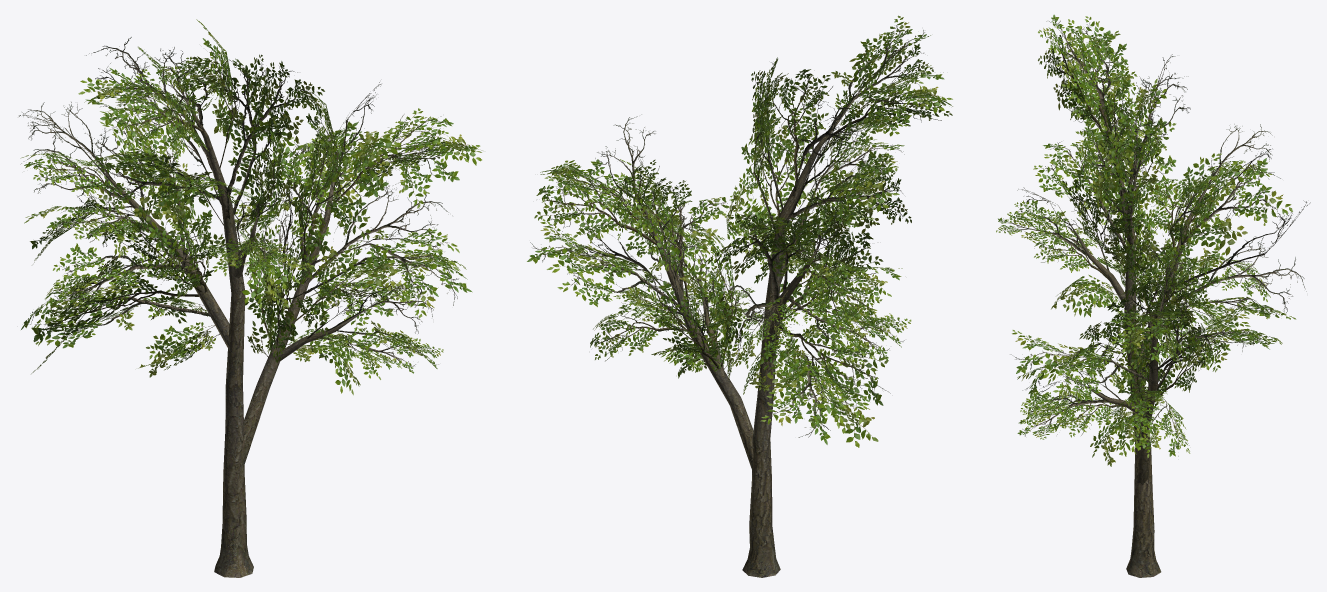
Rendered from tree1.dae.
The picture shows the model from 3 angles, left to right: view 1: azimuth 30°, elevation 25°; view 2: azimuth 150°, elevation 25°; view 3: azimuth 270°, elevation 25°; orthographic projection. The views are drawn at different scales.
Parts seen in each view (by area): view 1: Foliage_Trees_01; view 2: Foliage_Trees_01; view 3: Foliage_Trees_01.
Part boxes in pixels (x1,y1,x2,y2): Foliage_Trees_01: [19, 19, 482, 577]; Foliage_Trees_01: [527, 15, 952, 577]; Foliage_Trees_01: [996, 14, 1310, 577].
Size of what is drawn, in the model's own units: 52.58 by 38.95 by 67.75.
